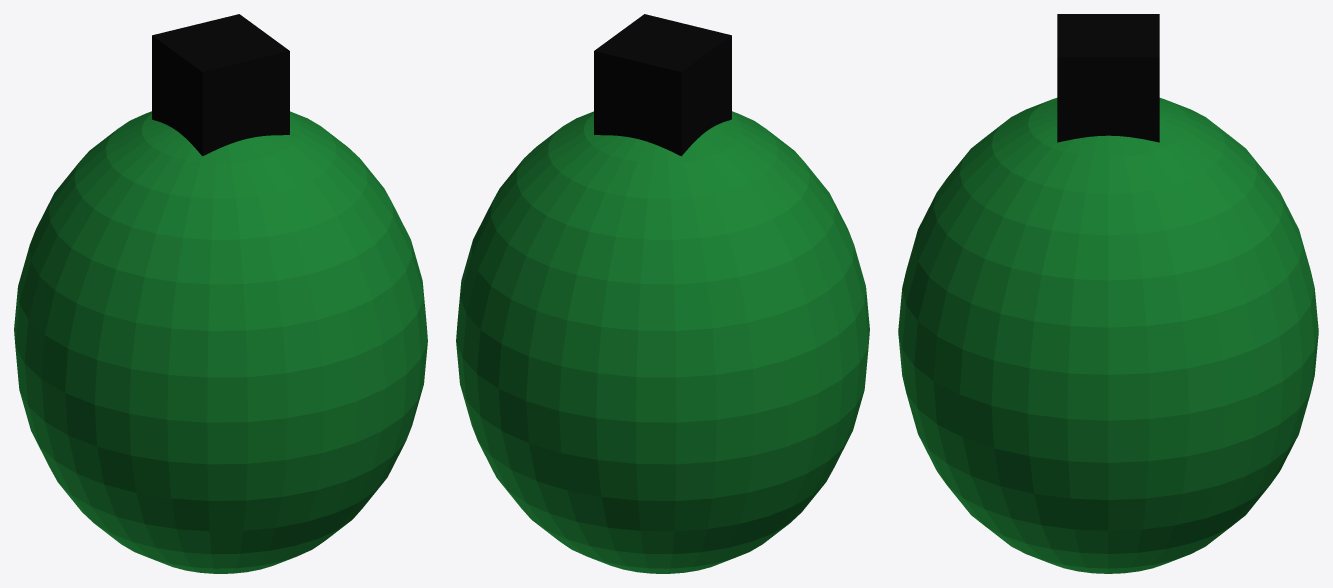
Rendered from grenade.fbx.
The picture shows the model from 3 angles, left to right: view 1: azimuth 30°, elevation 25°; view 2: azimuth 150°, elevation 25°; view 3: azimuth 270°, elevation 25°; orthographic projection.
Visible parts, largest first — view 1: Sphere, Cube; view 2: Sphere, Cube; view 3: Sphere, Cube.
Boxes of the visible parts, x1,y1,x2,y2 form: Sphere: (14,111,427,573); Cube: (152,14,289,156); Sphere: (456,111,869,573); Cube: (594,14,731,156); Sphere: (898,98,1318,573); Cube: (1057,14,1159,142).
Size of the model in its own units: 200 by 274 by 200.
